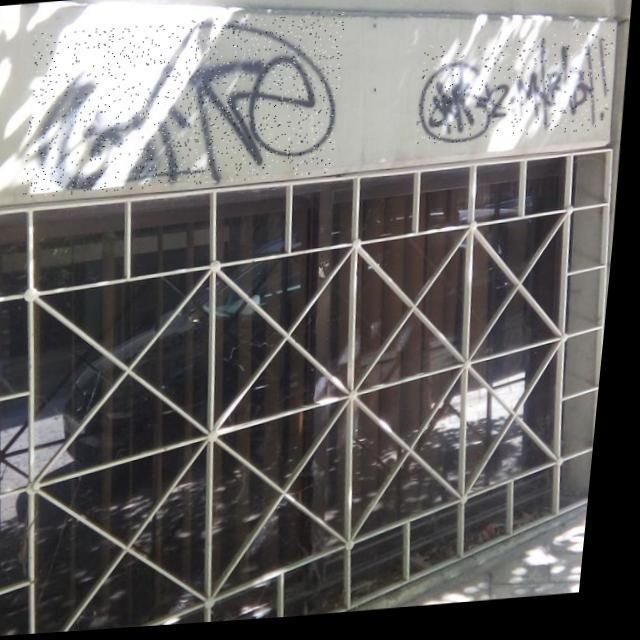-: (21, 12, 348, 198), (416, 38, 618, 152)
